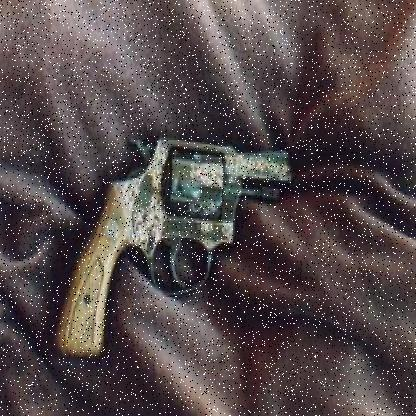pistol: (53, 136, 297, 357)
